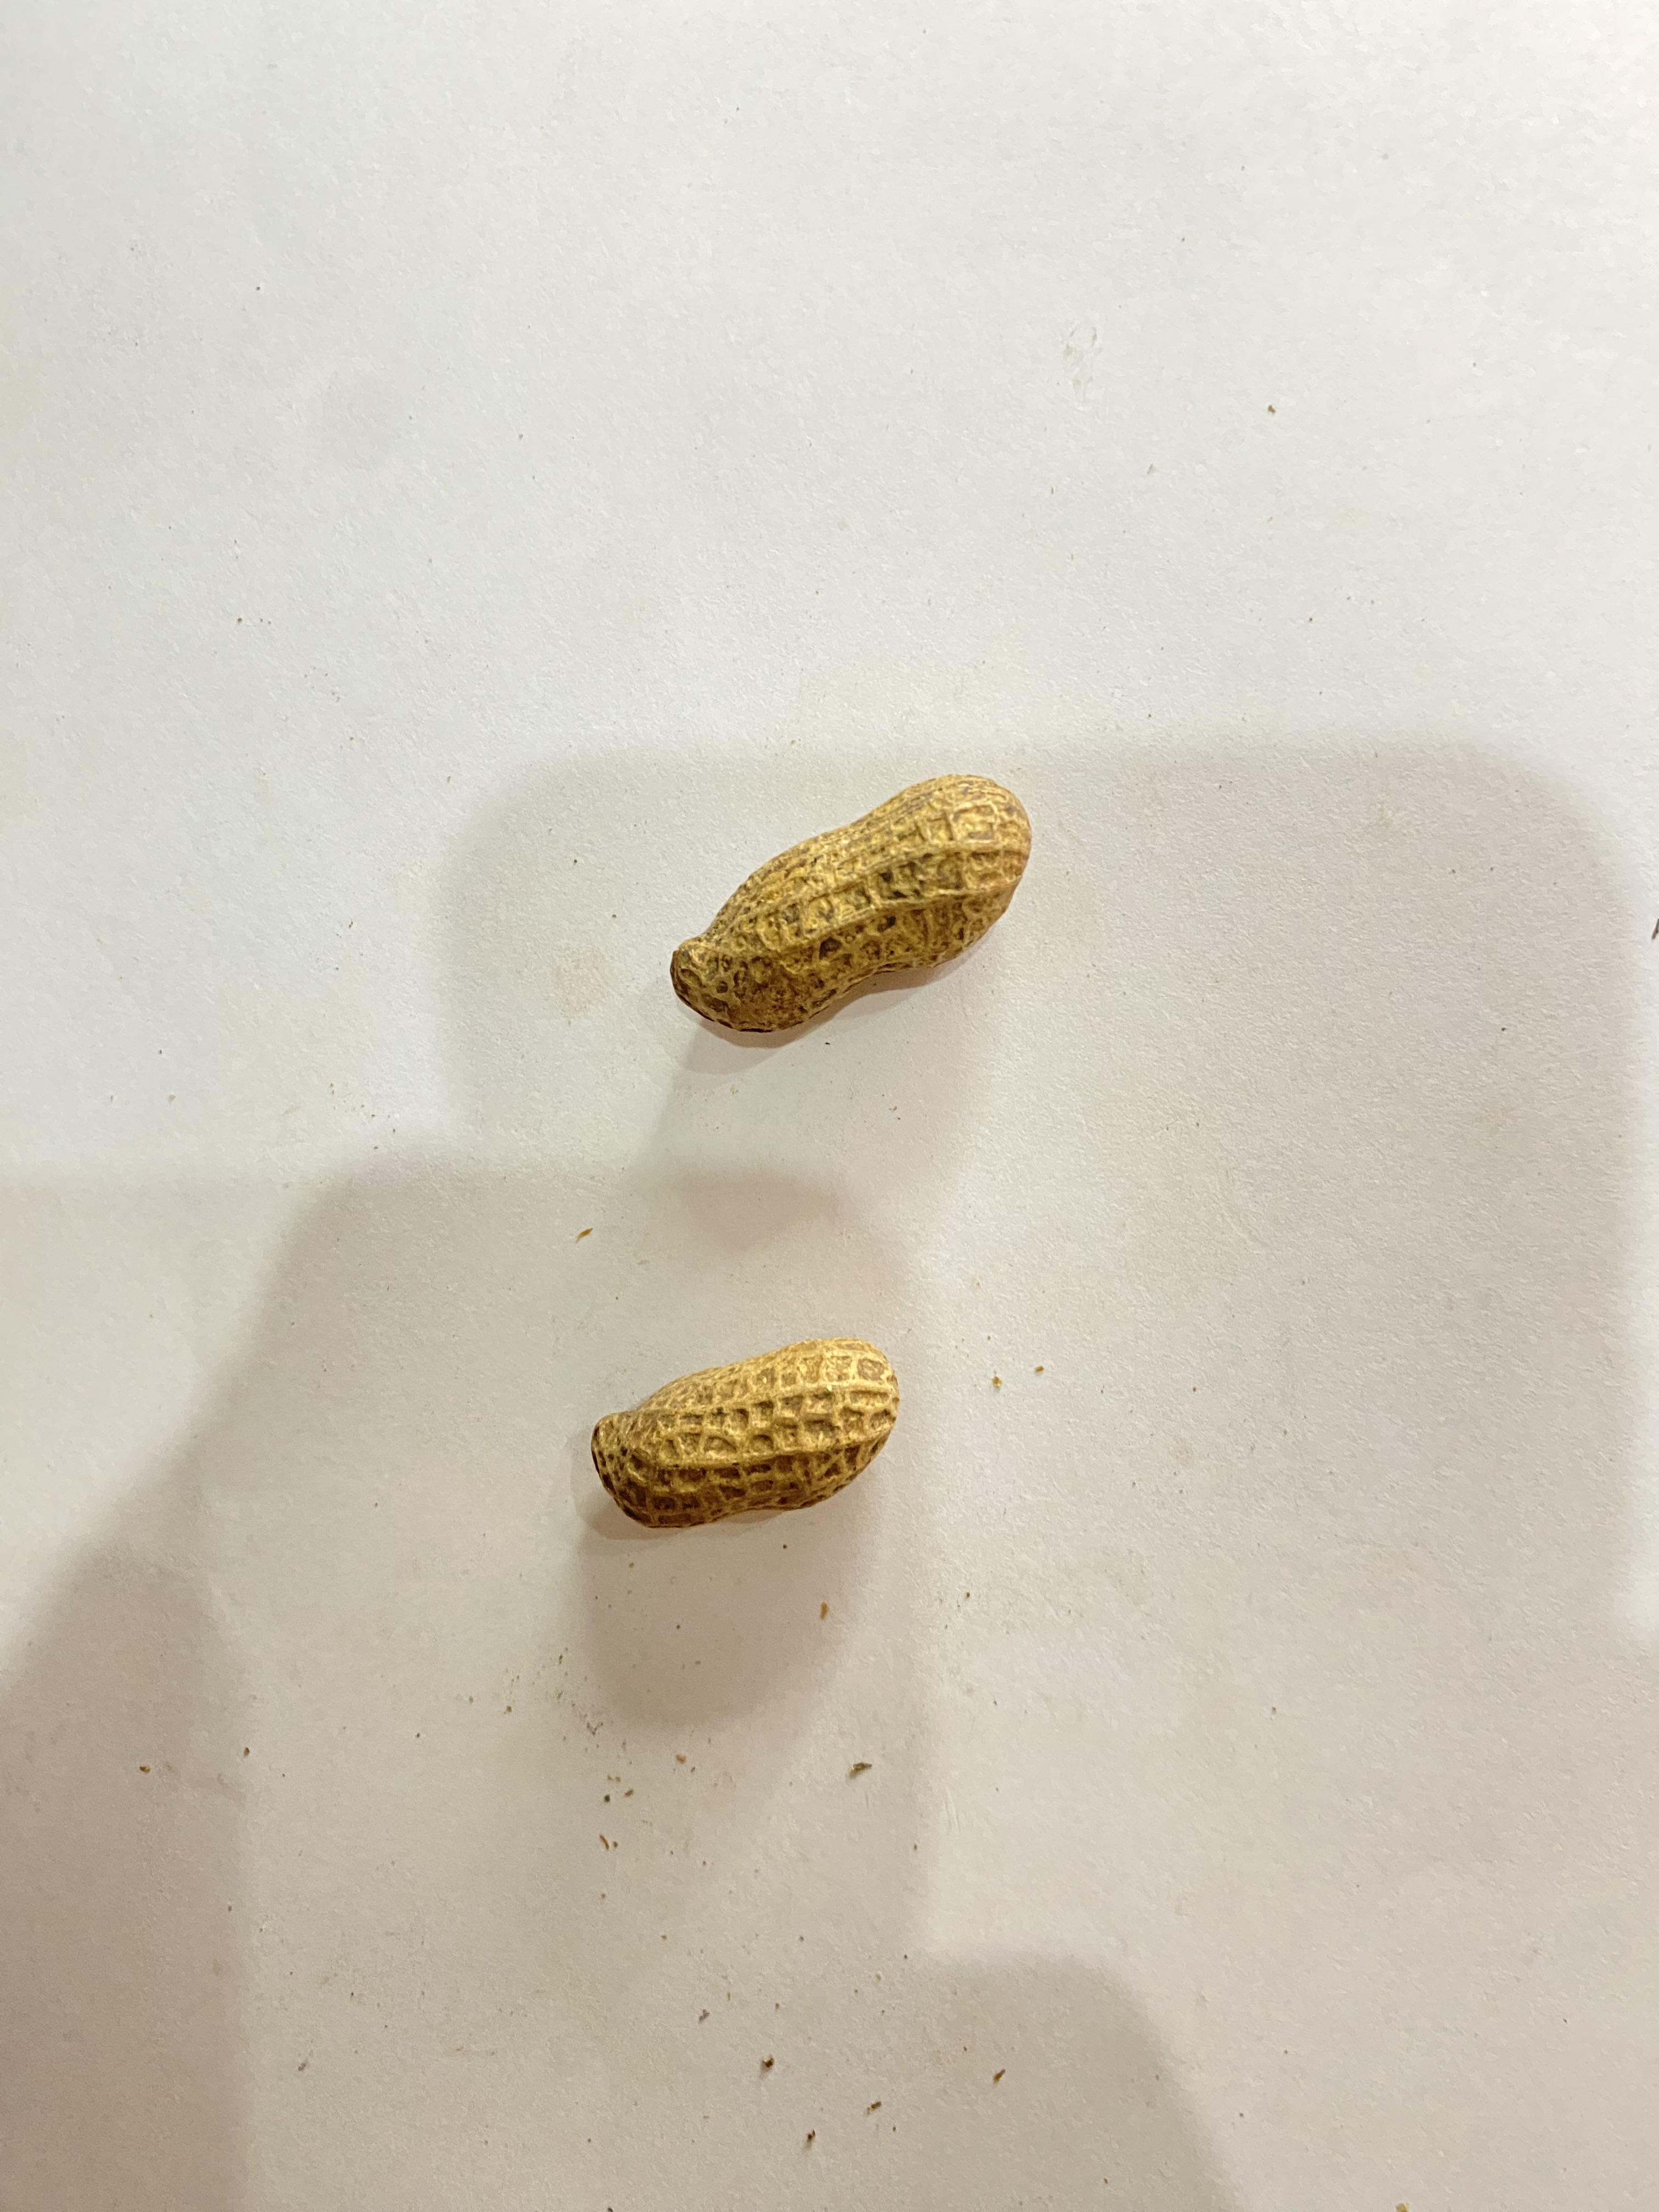kacang2: (619, 745, 1072, 1061), (577, 1325, 913, 1552)
